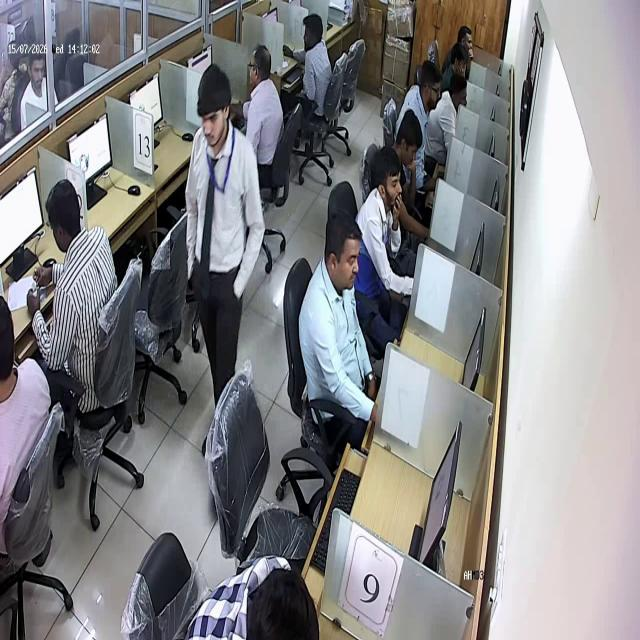paper-chit: (30, 278, 41, 290)
